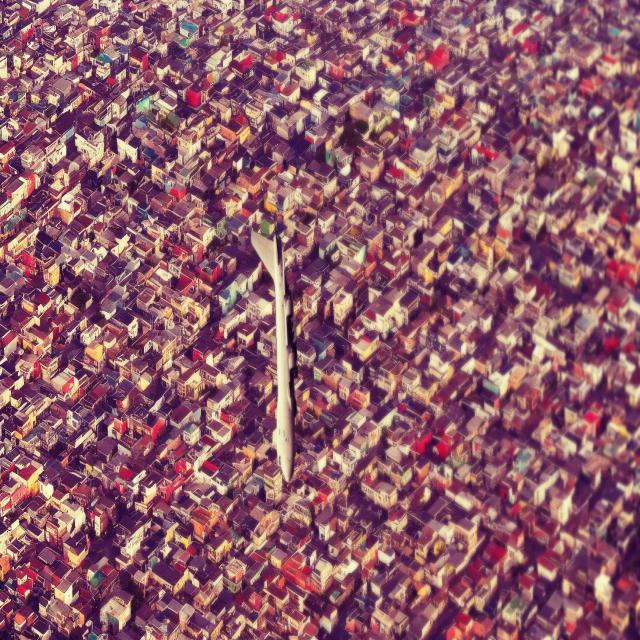airplane: (249, 218, 298, 484)
